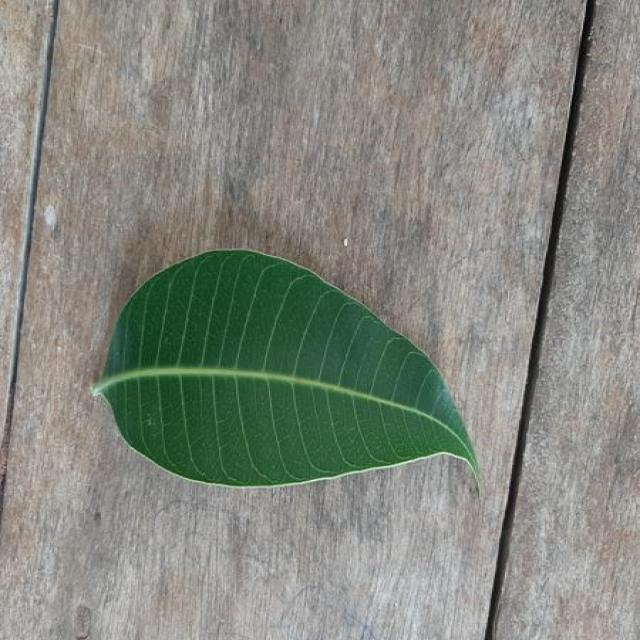mango: (93, 250, 478, 487)
